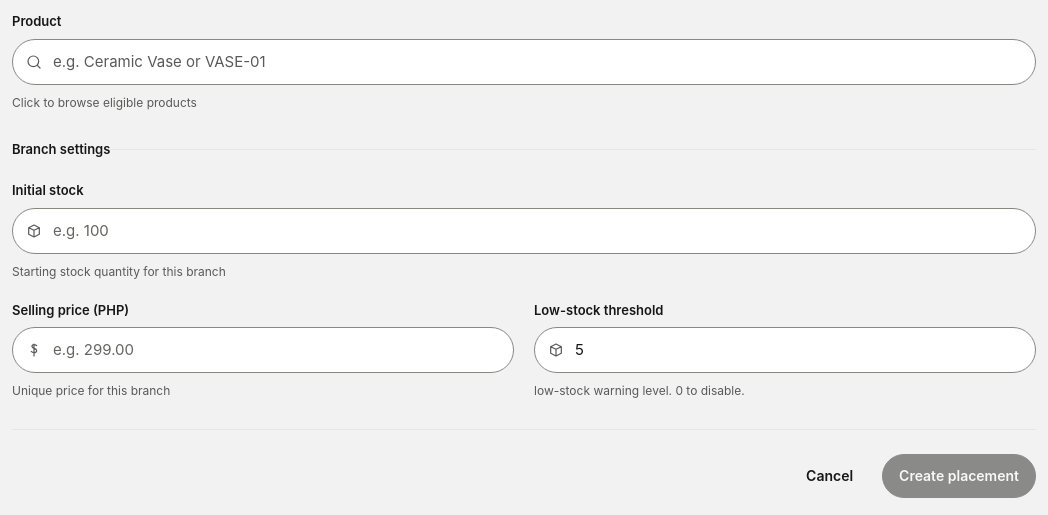
Scenario: InventoryPlacementForm › preserves inputs after a placement conflict
Click the dropdown labelled "Product".
click(524, 62)  # box x1=12 y1=38 x2=1036 y2=84
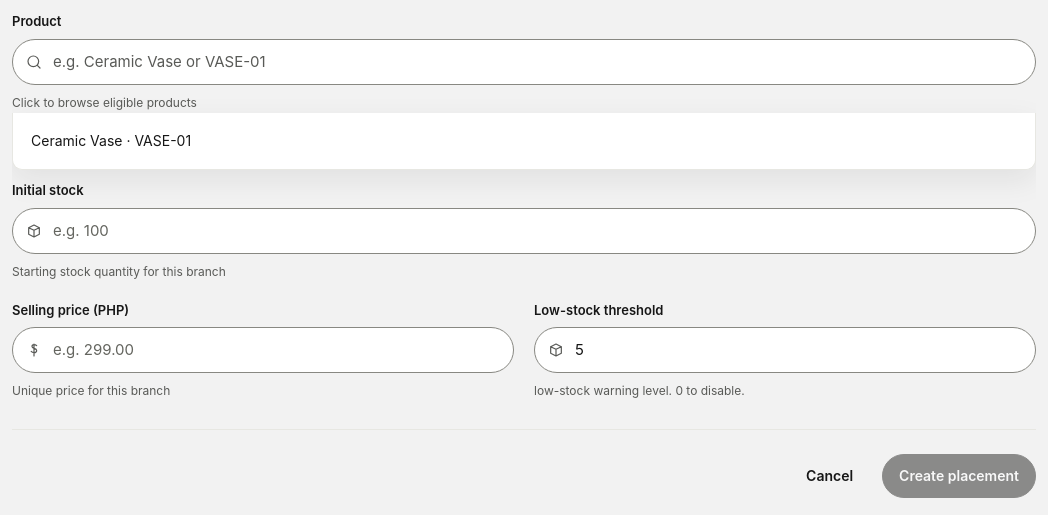
Click the option "Ceramic Vase · VASE-01".
click(111, 140)  # box x1=19 y1=118 x2=1029 y2=162
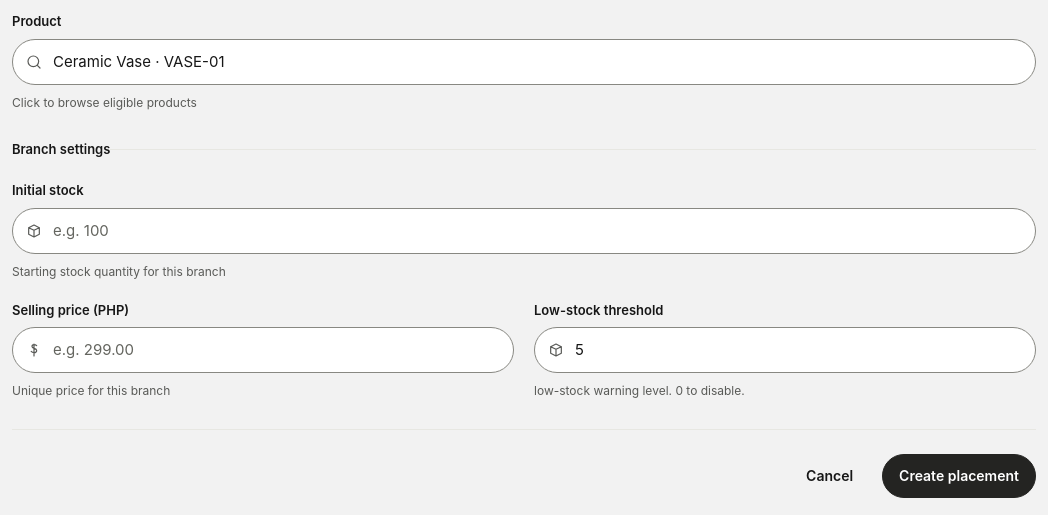
Type "12.50" into the field labelled "Selling price (PHP)".
click(263, 350); type("12.50")  # box x1=12 y1=327 x2=514 y2=373
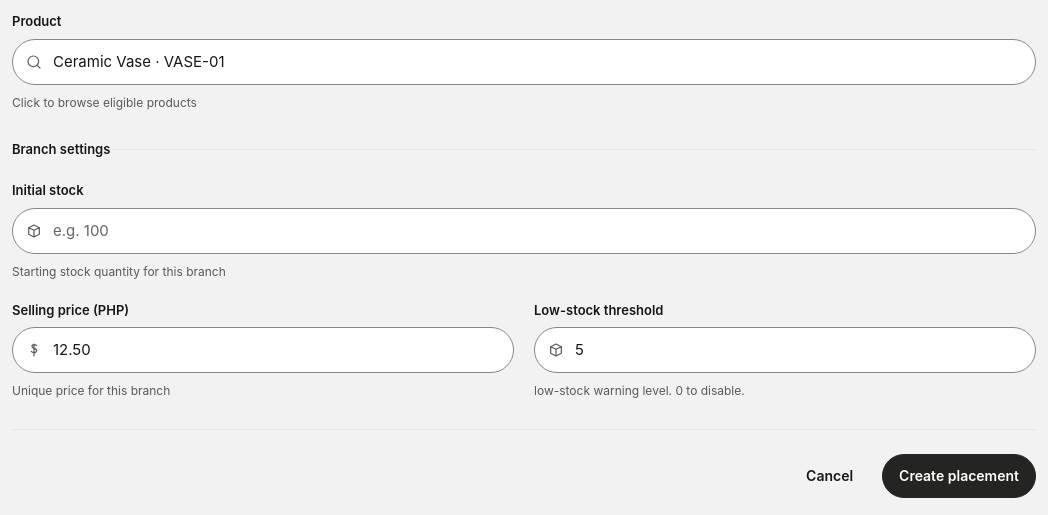
Type "2" into the field labelled "Initial stock".
click(524, 231); type("2")  # box x1=12 y1=208 x2=1036 y2=254
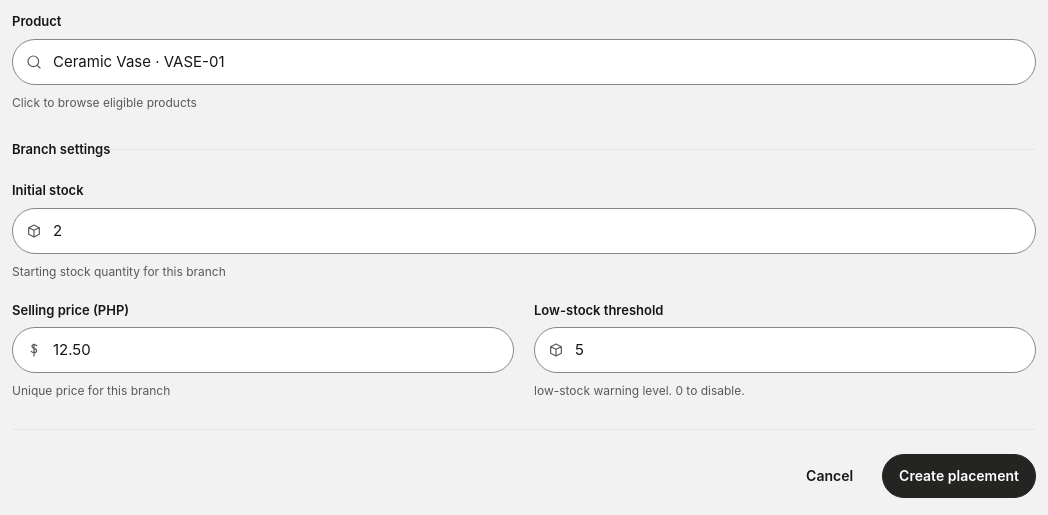
Click the button "Create placement".
click(959, 476)  # box x1=882 y1=454 x2=1036 y2=498
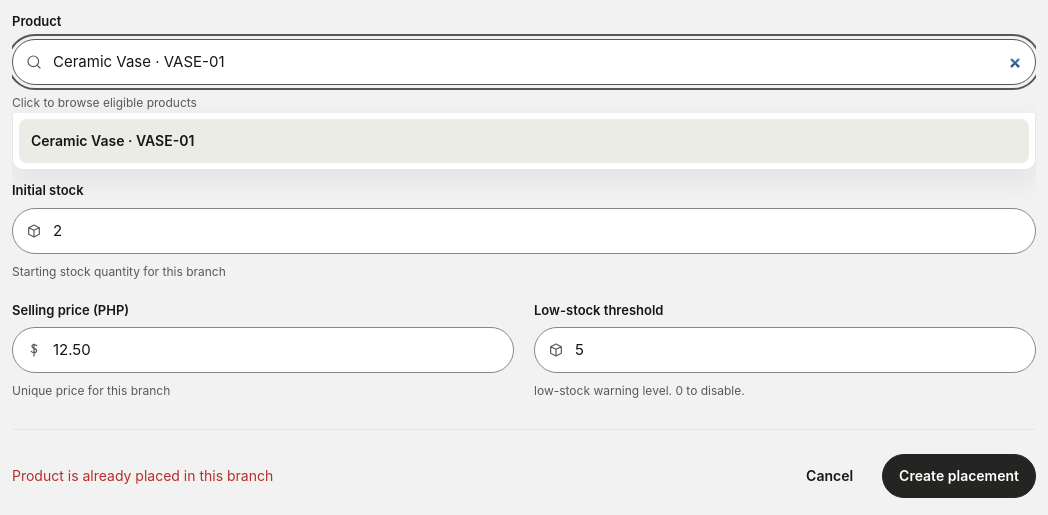
Check: the button "Create placement" is enabled, box x1=882 y1=454 x2=1036 y2=498
Check: the message "Product is already placed in this branch" is shown, box x1=12 y1=467 x2=273 y2=484
